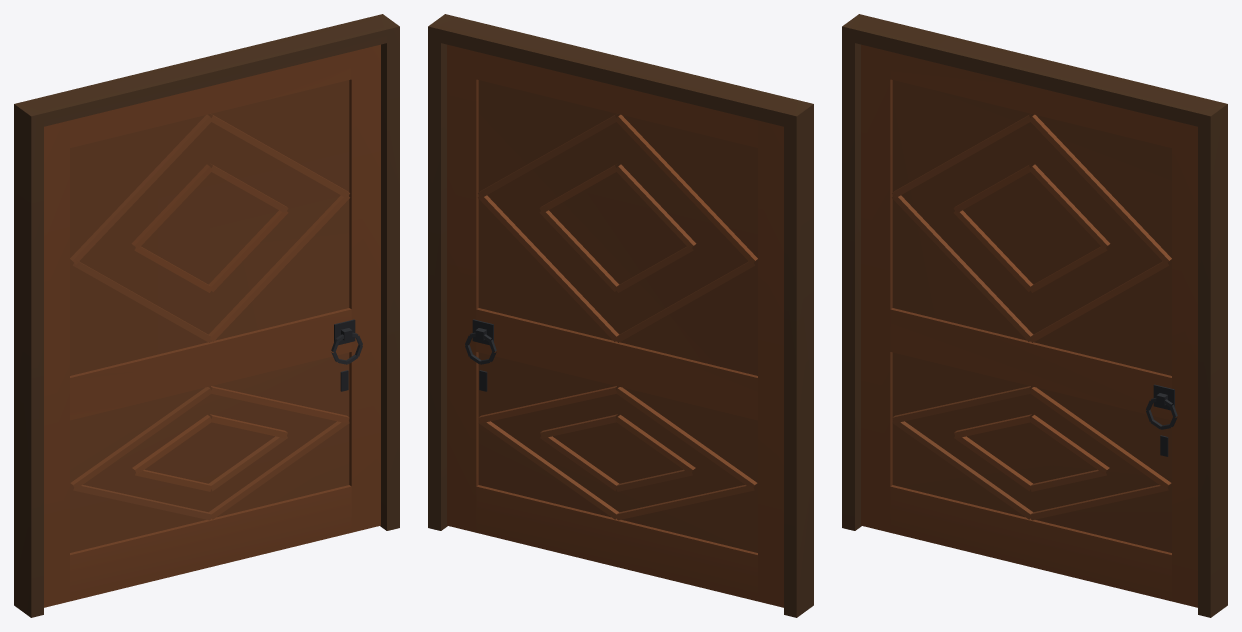
File: door.oak.diamond.glb
3 renders of one model, left to right at view 1: azimuth 30°, elevation 25°; view 2: azimuth 150°, elevation 25°; view 3: azimuth 330°, elevation 25°, orthographic.
Visible parts, largest first — view 1: door_oak_diamond; view 2: door_oak_diamond; view 3: door_oak_diamond.
Boxes of the visible parts, x1,y1,x2,y2 form: door_oak_diamond: (14, 14, 399, 617); door_oak_diamond: (428, 14, 813, 617); door_oak_diamond: (842, 14, 1227, 617).
Size of what is drawn, in the model's own units: 2 by 2.6 by 0.16.
